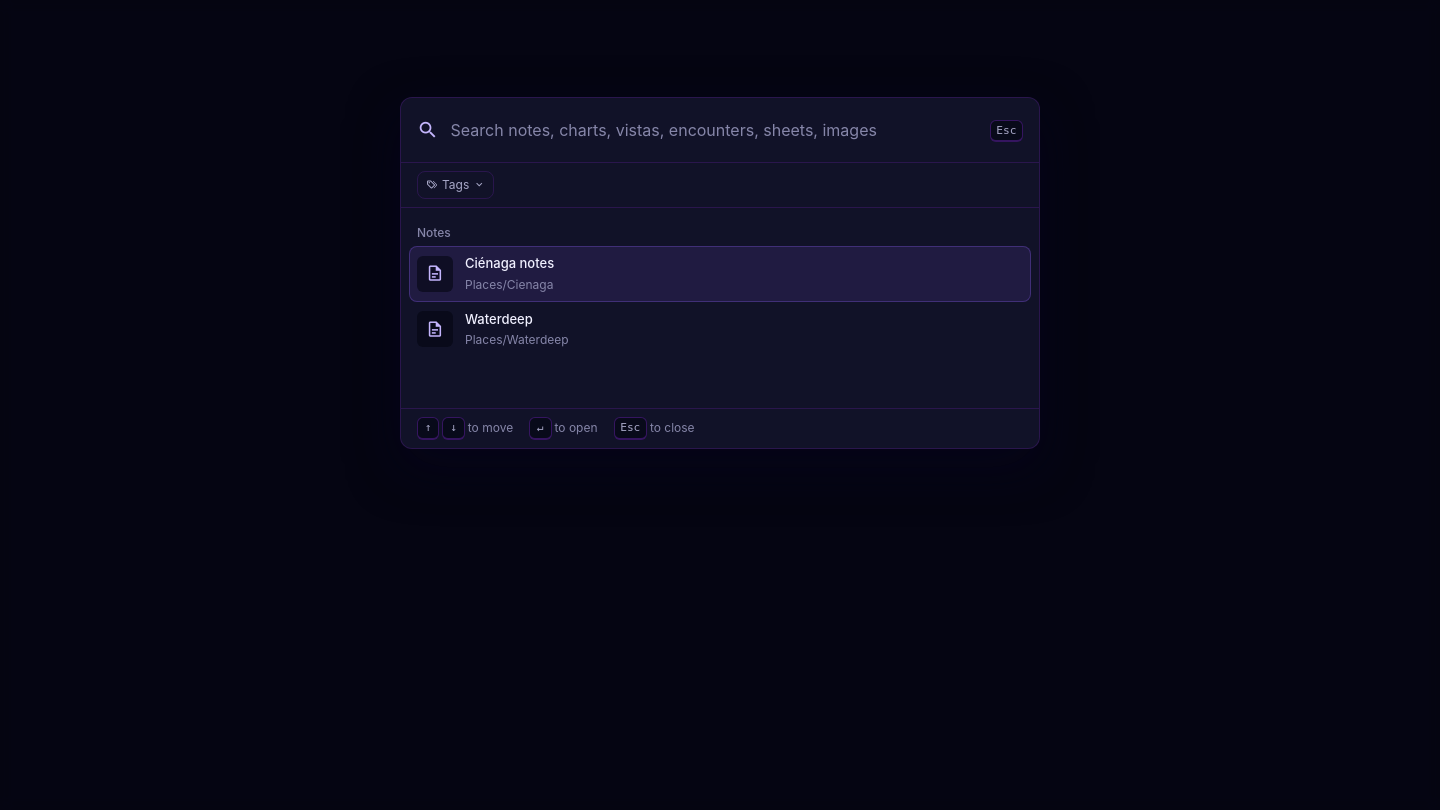
Scenario: SearchModal — everything, not only notes › finds documents and images in the Observatory as well as notes, each saying what and where it is
Type "cien" into the dropdown with class "search-input" at x=714, y=130, box [451,110,978,150]
Wait 300 ms
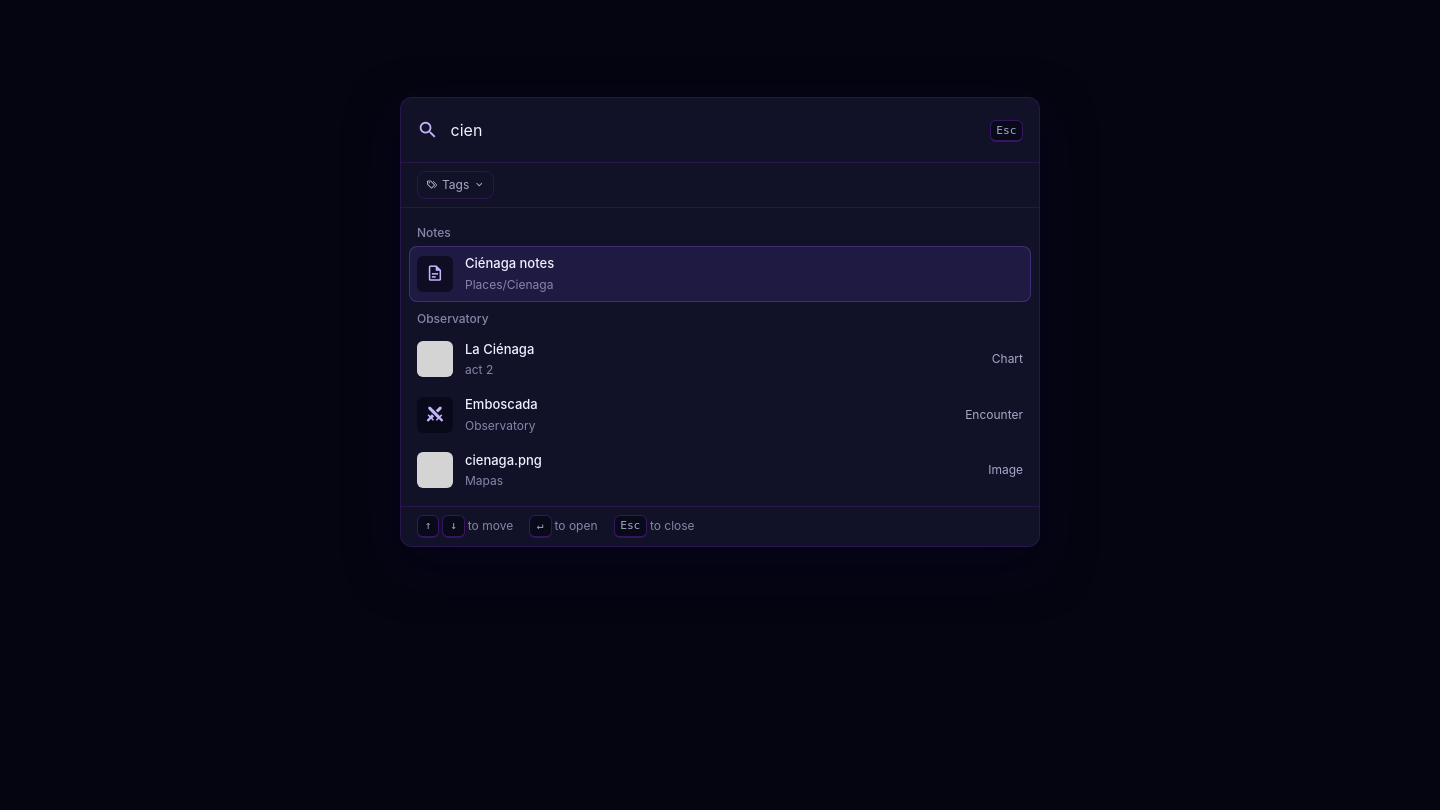
Expected: the elements with class "results-group" read "Notes", "Observatory", in this order, [417,225,451,240]; [417,311,488,326]
Expected: the elements with class "result-title" read "Ciénaga notes", "La Ciénaga", "Emboscada", "cienaga.png", in this order, [465,255,554,271]; [465,341,534,357]; [465,396,538,412]; [465,452,542,468]
Expected: the elements with class "result-kind" read "Chart", "Encounter", "Image", in this order, [992,350,1023,368]; [965,406,1023,424]; [988,461,1023,479]
